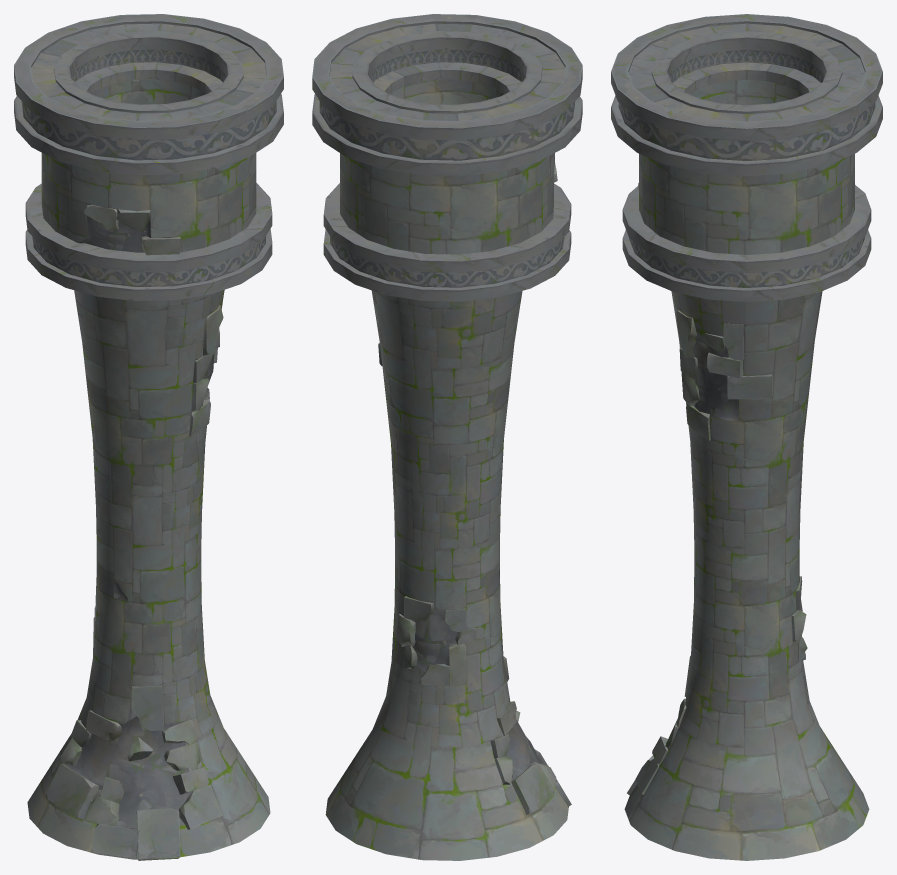
The model's file is Area_MdBuild_SdTower01_Group.fbx.
3 views of the same model, side by side, from view 1: azimuth 30°, elevation 25°; view 2: azimuth 150°, elevation 25°; view 3: azimuth 270°, elevation 25° (orthographic).
Visible parts, largest first — view 1: Area_MdBuild_SdTower01_Lod0; view 2: Area_MdBuild_SdTower01_Lod0; view 3: Area_MdBuild_SdTower01_Lod0.
Part boxes in pixels (x1,y1,x2,y2): Area_MdBuild_SdTower01_Lod0: [14, 14, 283, 860]; Area_MdBuild_SdTower01_Lod0: [312, 14, 582, 860]; Area_MdBuild_SdTower01_Lod0: [611, 14, 882, 860].
Bounding box in the file's own units: 11.04 × 33.47 × 11.04.
Materials: 4 (4 with a texture image).
